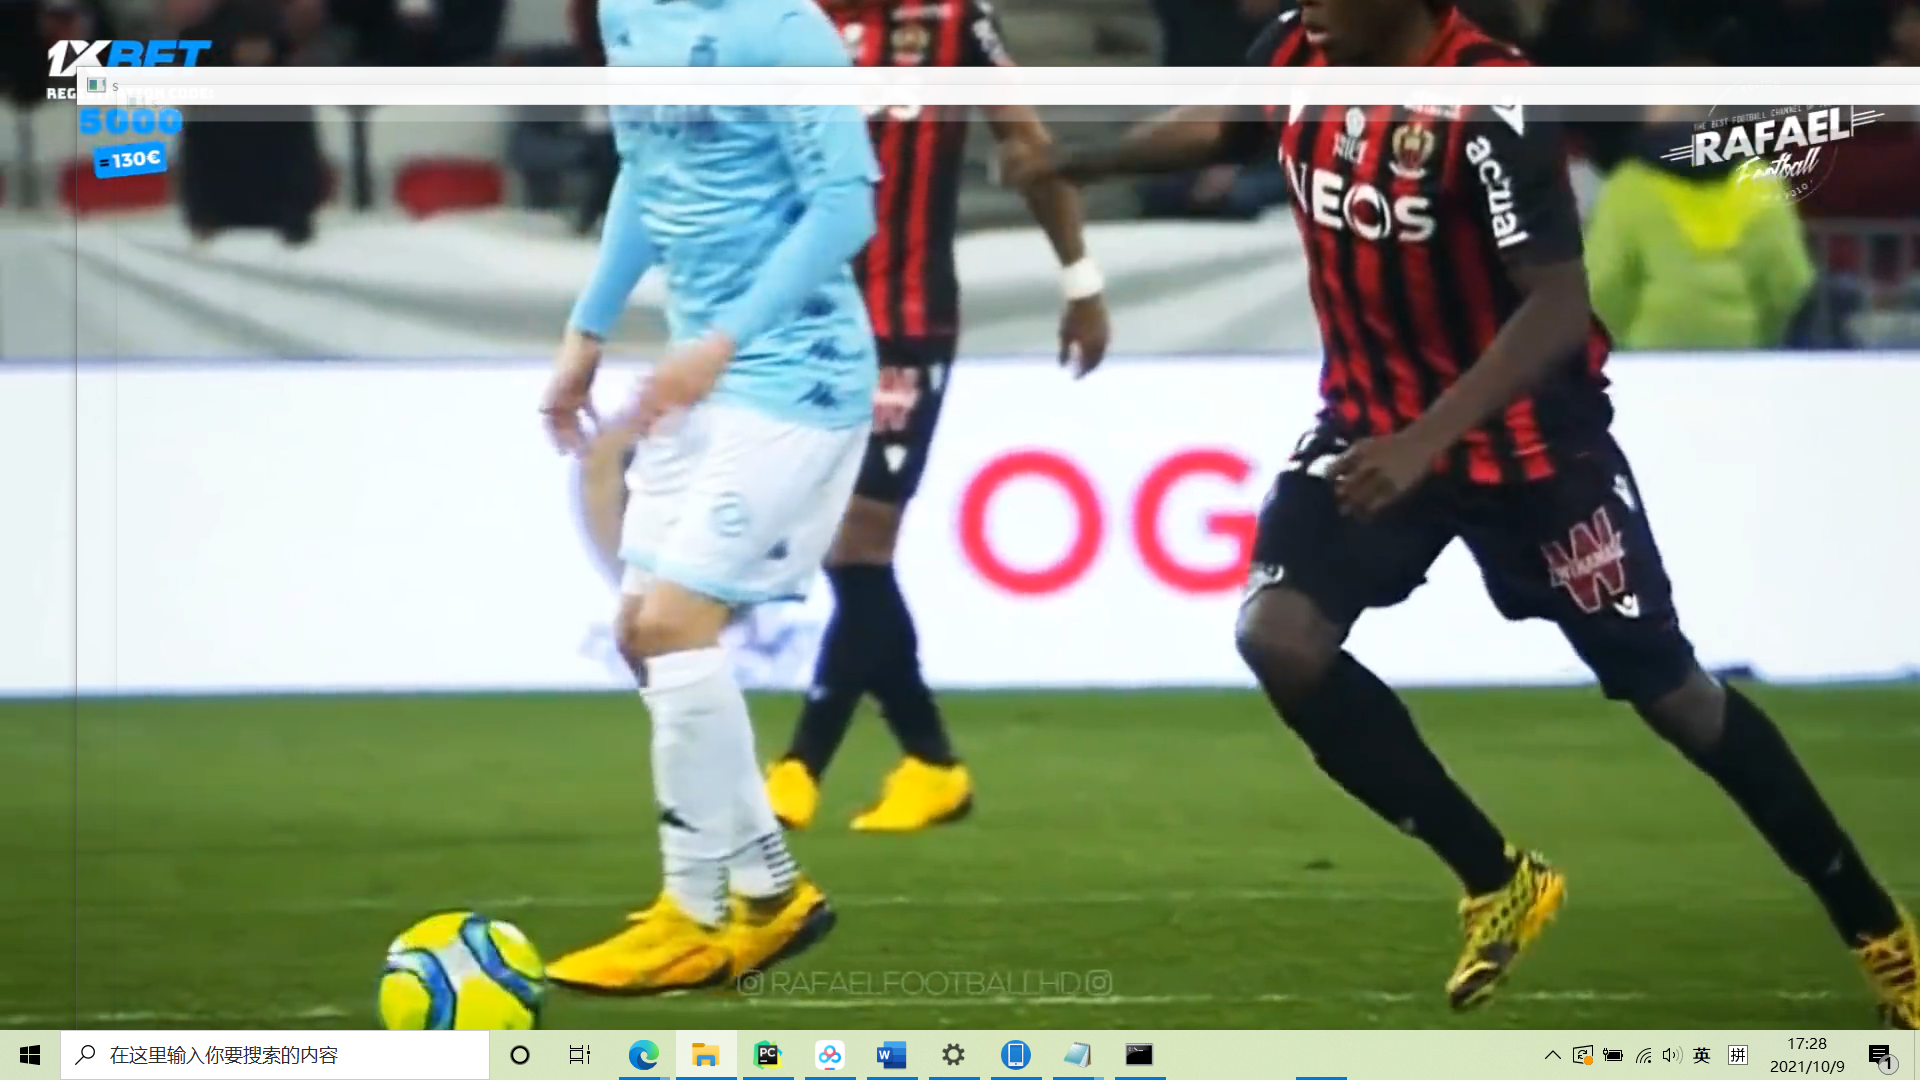ft: (364, 906, 564, 1025)
